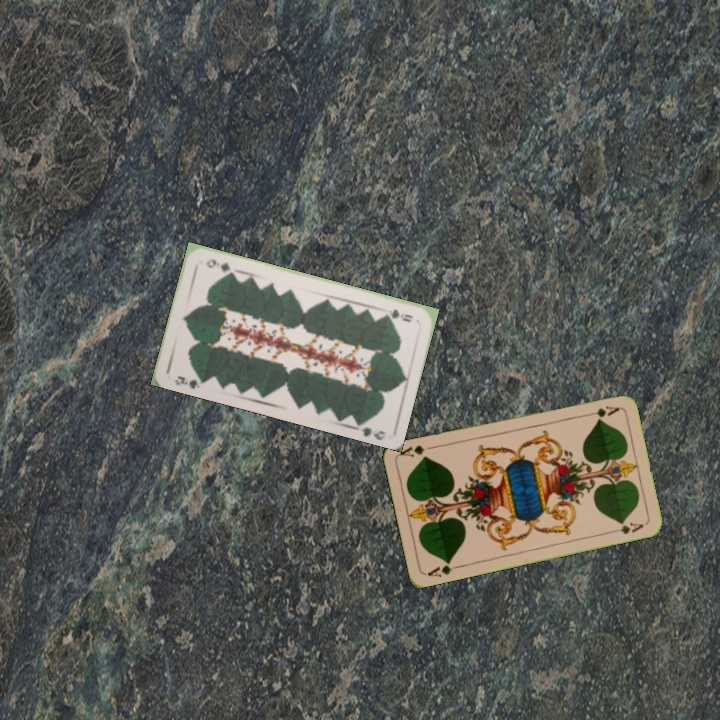G9: (171, 372, 208, 392), (380, 305, 416, 325)
GA: (423, 557, 463, 580), (581, 402, 622, 420)
